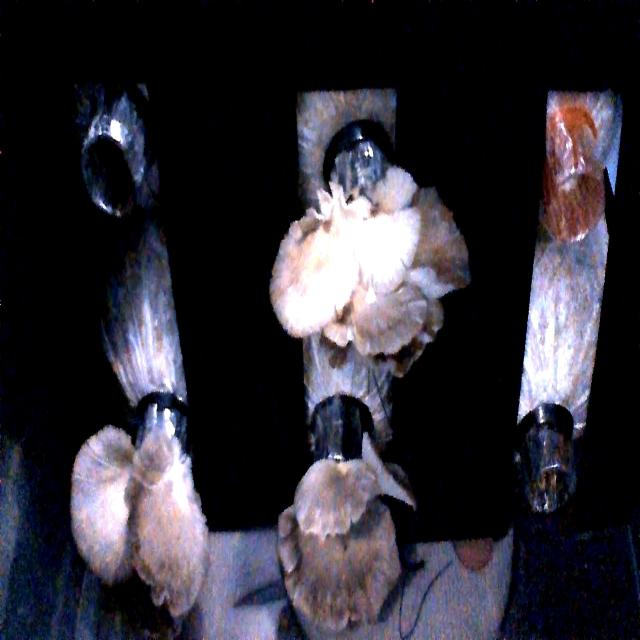big: (264, 198, 459, 356), (66, 423, 211, 618), (266, 447, 410, 633)
nfound: (82, 115, 142, 227), (539, 166, 605, 245), (524, 449, 573, 519)
